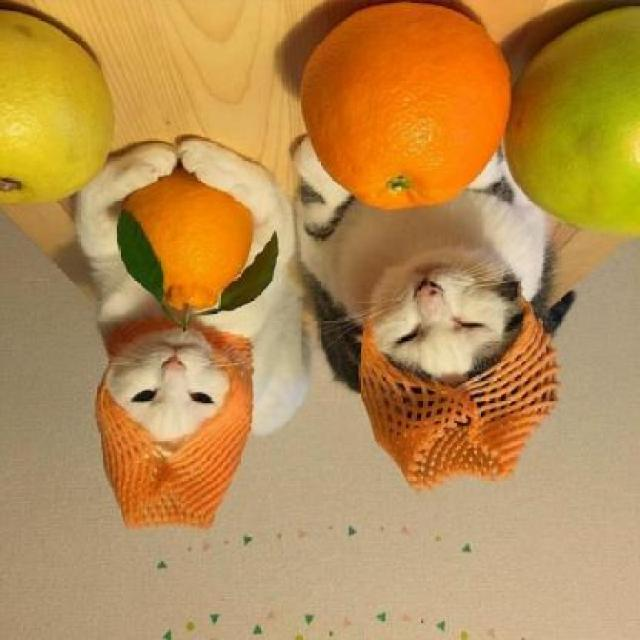cat: (282, 118, 582, 488), (59, 137, 307, 528)
